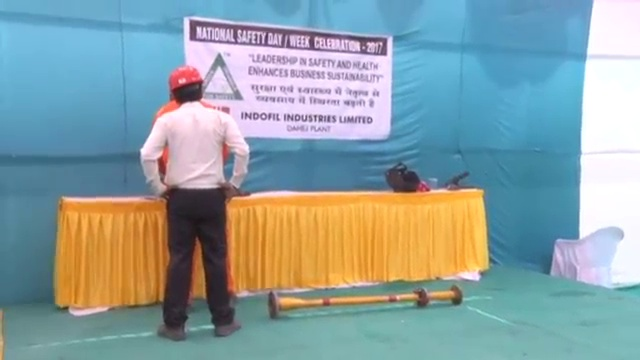helmet: (167, 65, 203, 91)
helmet_on: (165, 66, 205, 104)
person: (141, 67, 248, 342)
